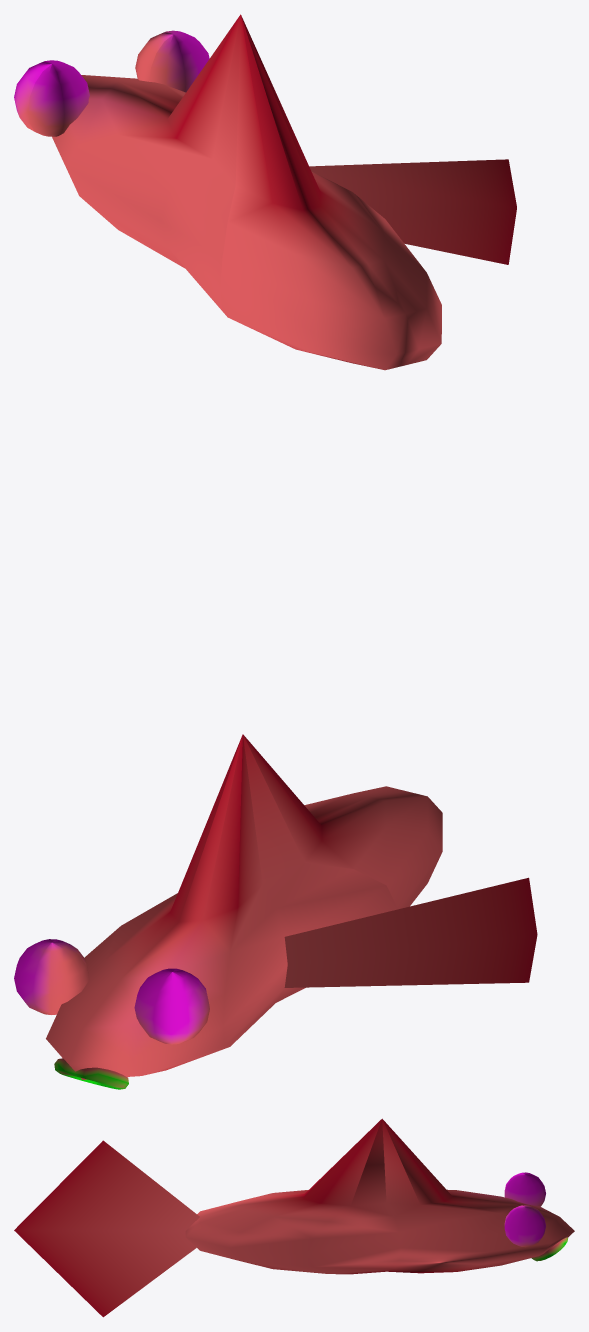
The model's file is drimp.glb.
3 views of the same model, one above another, from view 1: azimuth 30°, elevation 25°; view 2: azimuth 150°, elevation 25°; view 3: azimuth 270°, elevation 25° (orthographic). The views are drawn at different scales.
Parts seen in each view (by area): view 1: Drimp; view 2: Drimp; view 3: Drimp.
Boxes of the visible parts, <box> form: Drimp: <box>14,14,516,370</box>; Drimp: <box>14,734,537,1089</box>; Drimp: <box>14,1118,574,1317</box>.
Size of the model in its own units: 0.6467 by 0.5227 by 1.34.
